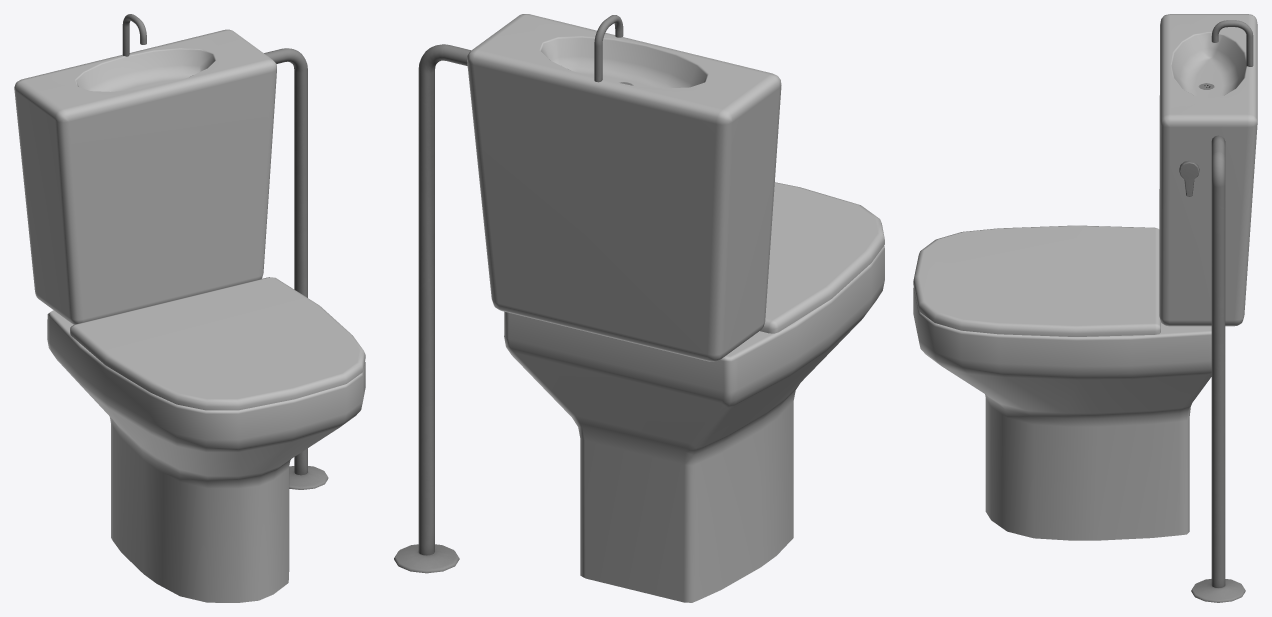
The model's file is Toilet.FBX.
3 views of the same model, side by side, from view 1: azimuth 30°, elevation 25°; view 2: azimuth 150°, elevation 25°; view 3: azimuth 270°, elevation 25° (orthographic). The views are drawn at different scales.
Parts seen in each view (by area): view 1: Toilet; view 2: Toilet; view 3: Toilet.
Part boxes in pixels (box(x1,y1,x2,y2)): Toilet: box(14, 14, 365, 602); Toilet: box(394, 14, 884, 602); Toilet: box(913, 14, 1257, 602).
Bounding box in the file's own units: 74.43 × 120 × 75.86.
